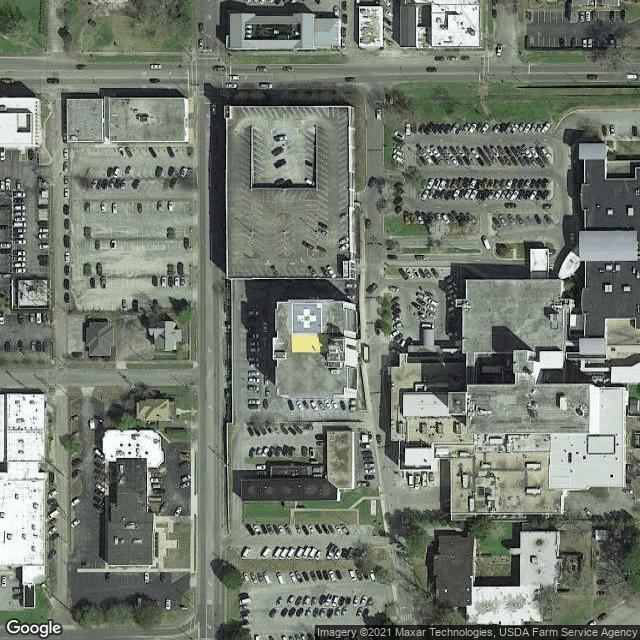Helipad: (290, 301, 324, 335)
